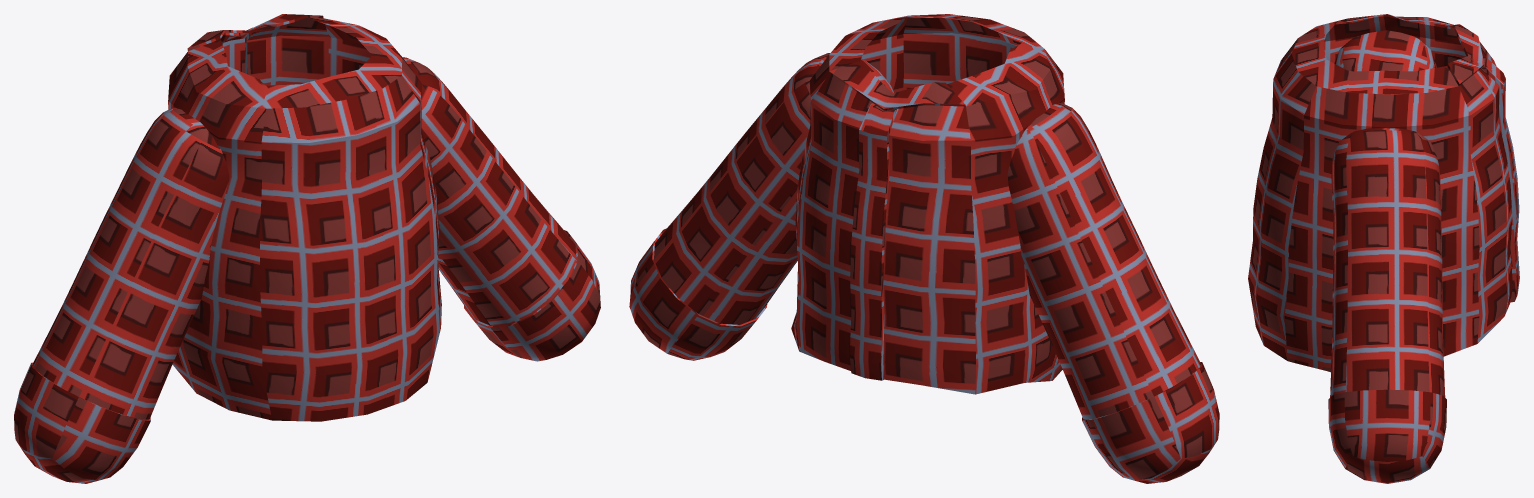
File: item-flannel.glb
3 renders of one model, left to right at view 1: azimuth 30°, elevation 25°; view 2: azimuth 150°, elevation 25°; view 3: azimuth 270°, elevation 25°, orthographic. The views are drawn at different scales.
Bounding box in the file's own units: 0.0483 × 0.0304 × 0.022.
Materials: 1 (1 with a texture image).
